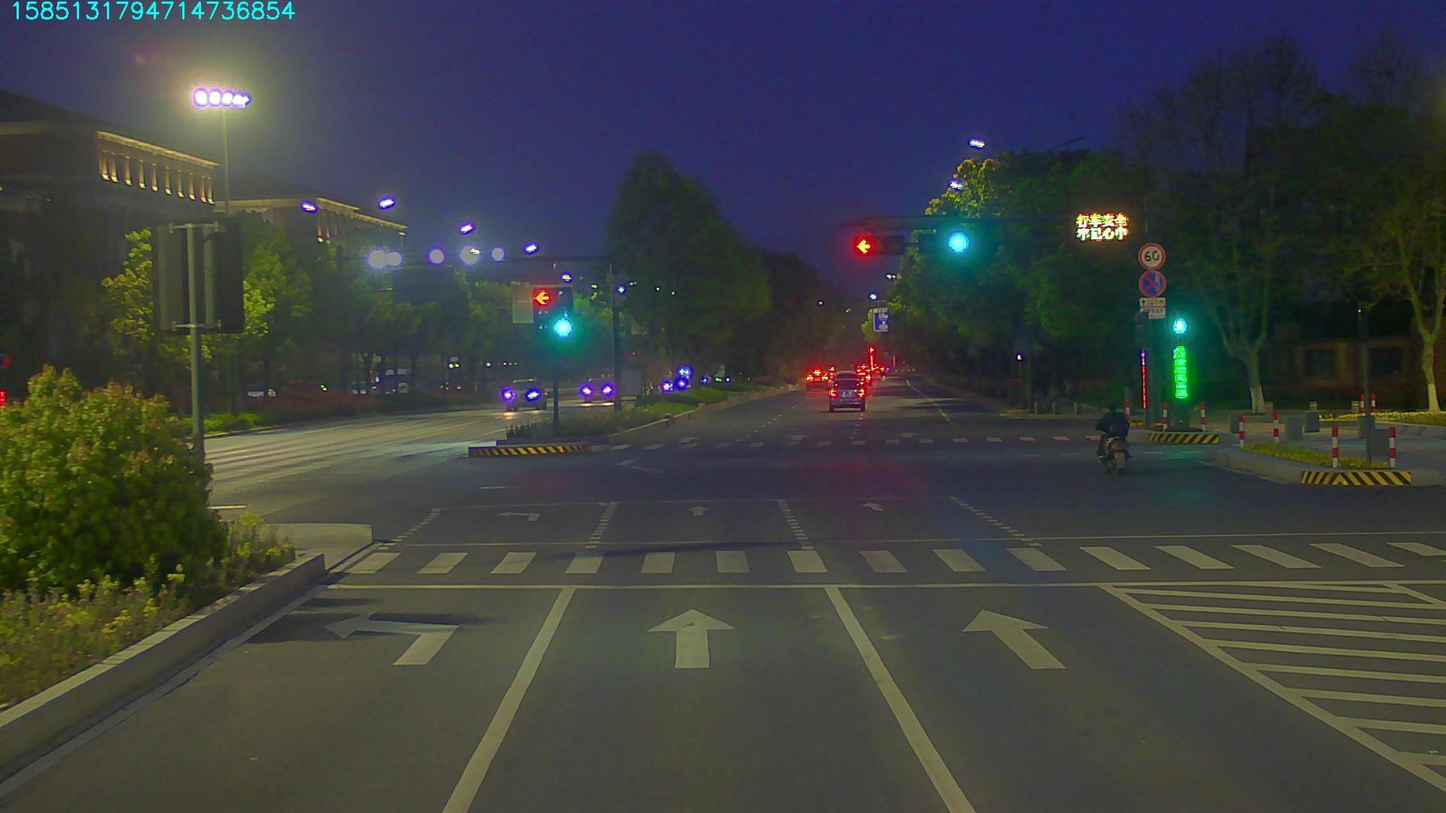green: (919, 233, 973, 262)
red: (851, 235, 903, 261)
